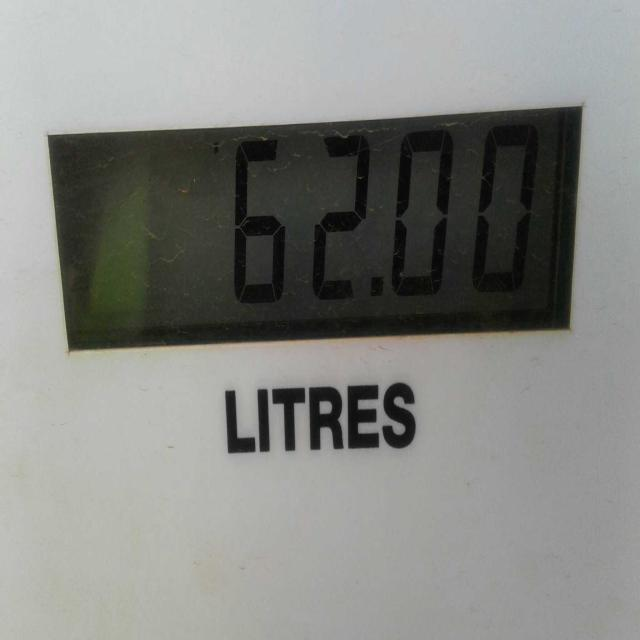.: (360, 252, 390, 320)
0: (382, 120, 465, 302), (464, 120, 547, 300)
2: (307, 124, 374, 322)
6: (217, 124, 294, 320)
